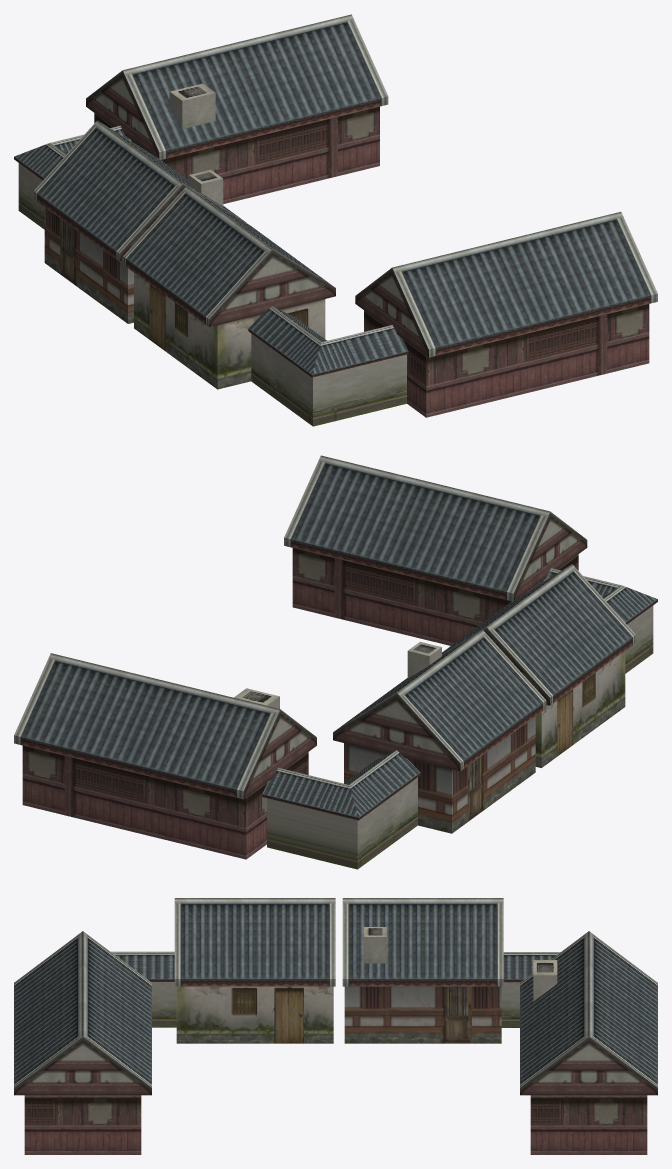
Rendered from minfang_2.fbx.
The picture shows the model from 3 angles, top to bottom: view 1: azimuth 30°, elevation 25°; view 2: azimuth 150°, elevation 25°; view 3: azimuth 270°, elevation 25°; orthographic projection. The views are drawn at different scales.
Visible parts, largest first — view 1: minfang_2; view 2: minfang_2; view 3: minfang_2.
Part boxes in pixels (box(x1,y1,x2,y2)): minfang_2: box(14, 14, 657, 426); minfang_2: box(14, 455, 657, 869); minfang_2: box(14, 898, 657, 1154).
Bounding box in the file's own units: 6.77 × 2.29 × 11.06.
